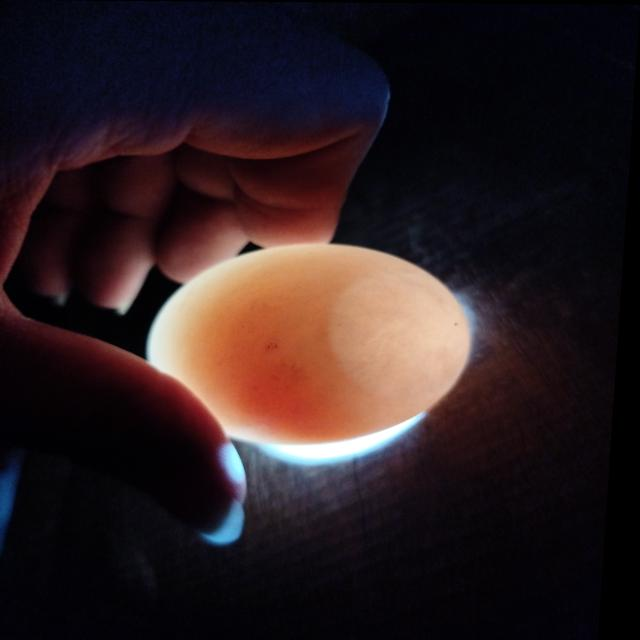Camara de Ar: (333, 272, 473, 415)
